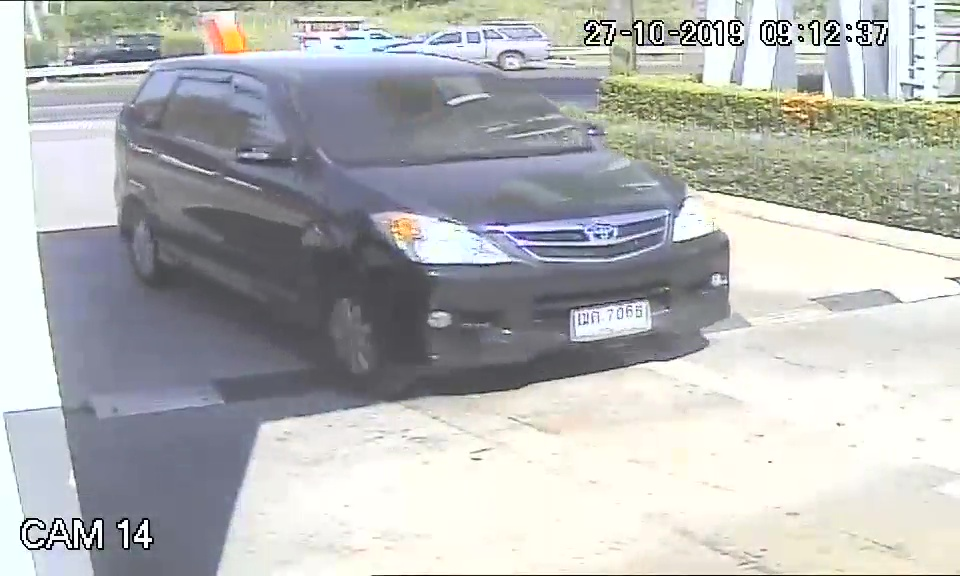van: (113, 43, 735, 397)
